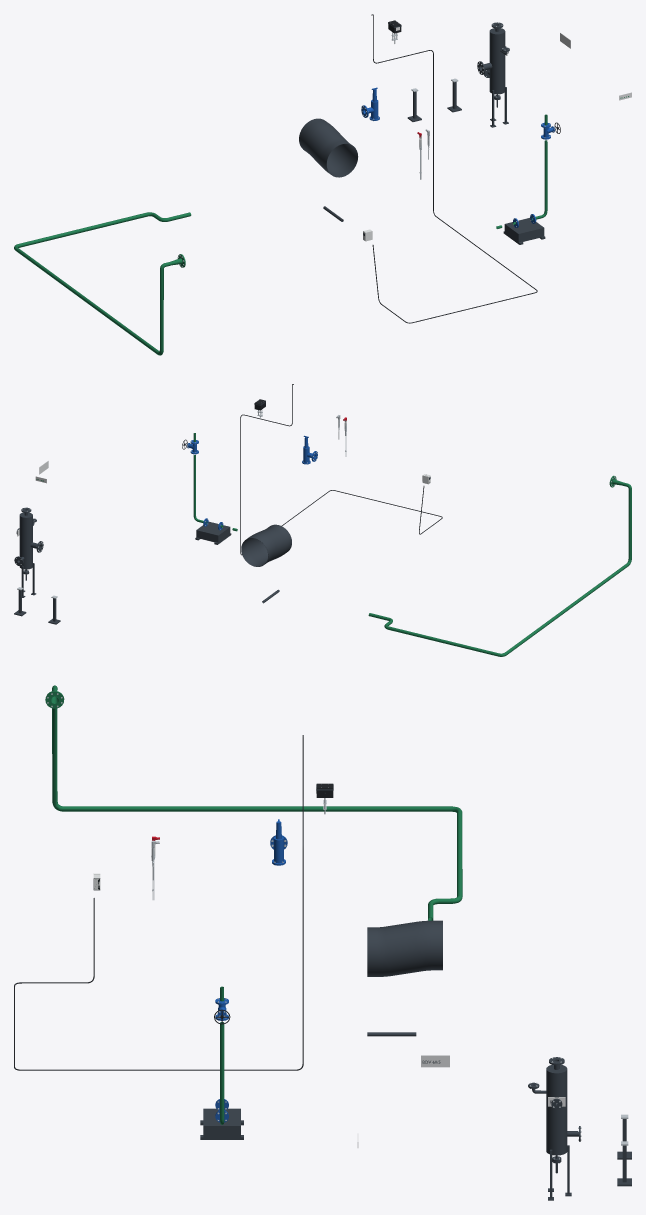
Rendered from s4000-4-CB5TirIt.glb.
3 views of the same model, one above another, from view 1: azimuth 30°, elevation 25°; view 2: azimuth 150°, elevation 25°; view 3: azimuth 270°, elevation 25° (orthographic). The views are drawn at different scales.
Visible parts, largest first — view 1: flue_spacer / dark, deaerator_feed / green, separator_fv8 / dark, gpz_drive_cable / black, pump_branch_1 / dark; view 2: deaerator_feed / green, flue_spacer / dark, separator_fv8 / dark, gpz_drive_cable / black, pump_branch_1 / dark; view 3: deaerator_feed / green, flue_spacer / dark, separator_fv8 / dark, gpz_drive_cable / black, pump_branch_1 / dark.
Boxes of the visible parts, x1,y1,x2,y2 form: flue_spacer / dark: (299,118,358,177); deaerator_feed / green: (14,212,191,355); separator_fv8 / dark: (477,22,509,127); gpz_drive_cable / black: (371,14,537,323); pump_branch_1 / dark: (503,218,545,244); deaerator_feed / green: (368,475,631,656); flue_spacer / dark: (241,524,291,566); separator_fv8 / dark: (14,507,43,597); gpz_drive_cable / black: (240,384,442,555); pump_branch_1 / dark: (195,521,231,544); deaerator_feed / green: (45,685,462,920); flue_spacer / dark: (367,920,442,976); separator_fv8 / dark: (528,1057,580,1200); gpz_drive_cable / black: (14,735,303,1070); pump_branch_1 / dark: (200,1108,243,1139).
Size of the model in its own units: 9.48 by 3.57 by 6.37.
